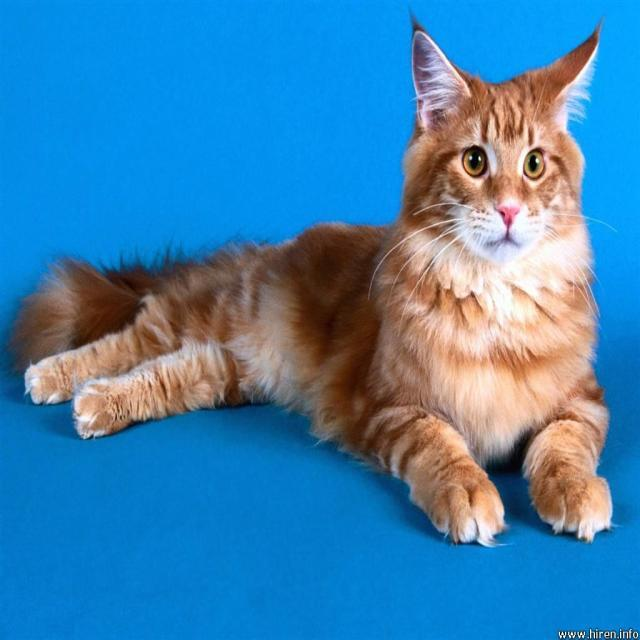Maine_Coon: (398, 21, 606, 263)
